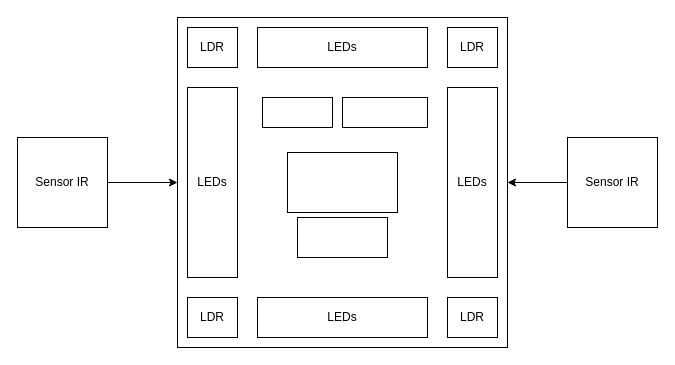
Image size: 675x365. Some labels were removed from this diagram. The centre of each missing label's shape, as x and y in pixels:
BT: the point at 342,237
Control: the point at 342,182
Sensor Peso: the point at 385,112
Servo: the point at 297,112
